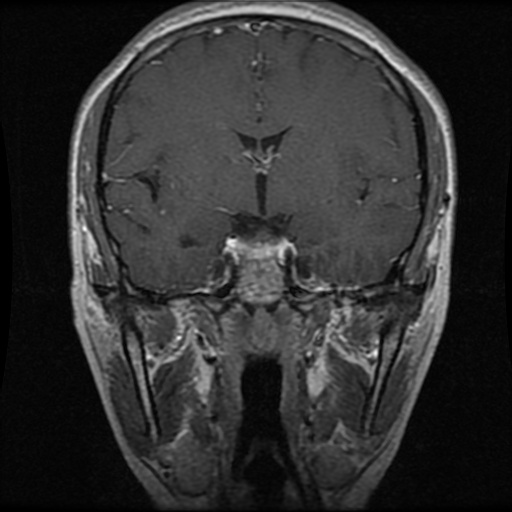pituitary: (226, 234, 286, 261)
